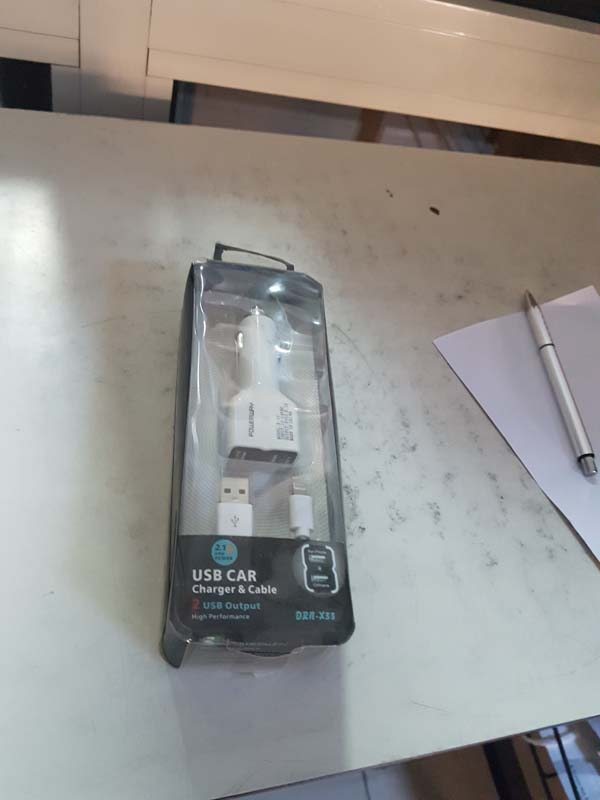usbcarcharger: (161, 239, 362, 682)
